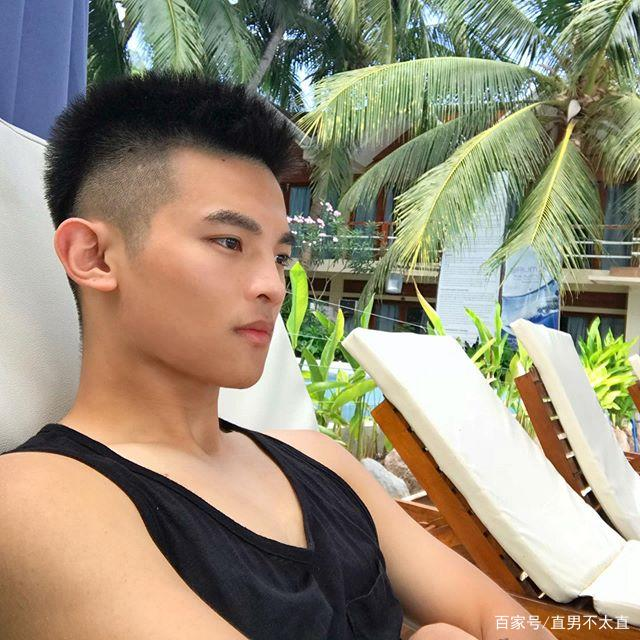person: (37, 77, 401, 584)
